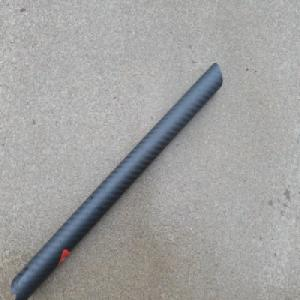LuggagePart: (11, 60, 223, 300)
